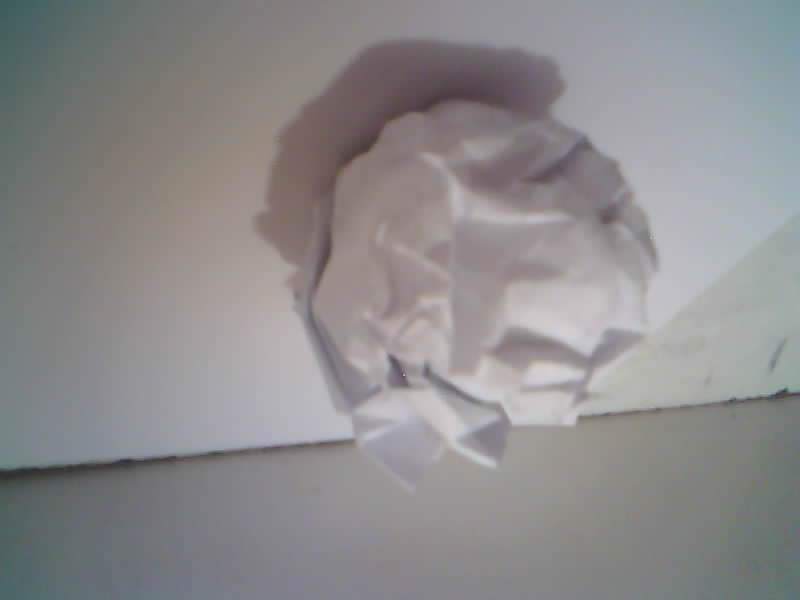biodegradable: (295, 100, 657, 487)
